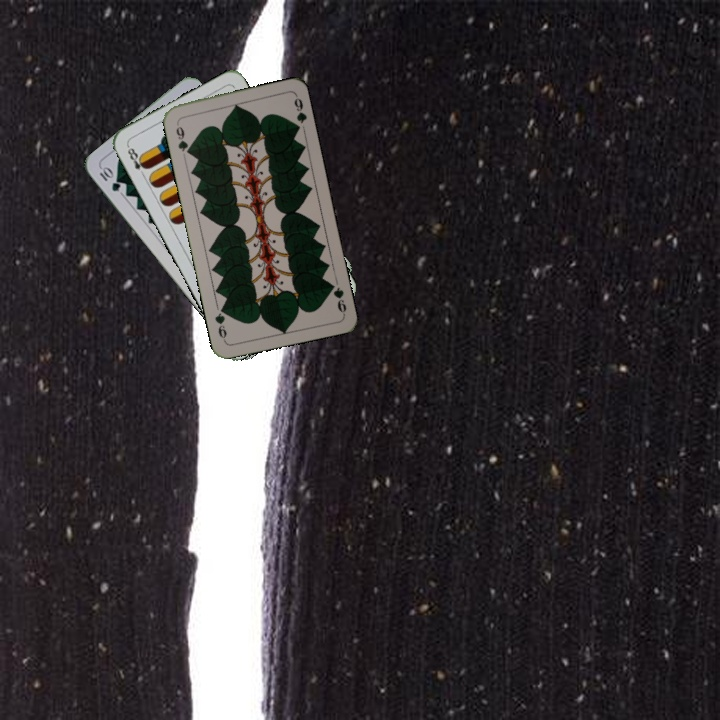E8: (123, 141, 150, 179)
G10: (95, 163, 123, 194)
G9: (325, 278, 349, 317), (172, 118, 193, 157)
